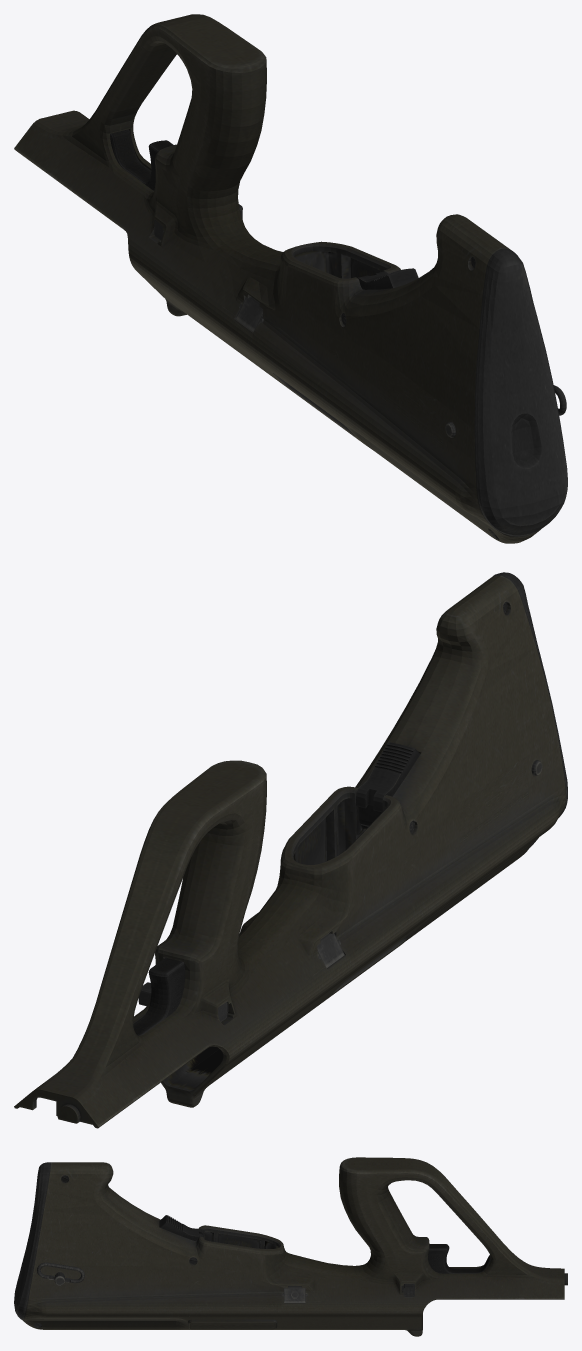
3 views of the same model, one above another, from view 1: azimuth 30°, elevation 25°; view 2: azimuth 150°, elevation 25°; view 3: azimuth 270°, elevation 25° (orthographic). The views are drawn at different scales.
Visible parts, largest first — view 1: TW_62e7c4fba689e8c9c50dfc38_PZ_Import; view 2: TW_62e7c4fba689e8c9c50dfc38_PZ_Import; view 3: TW_62e7c4fba689e8c9c50dfc38_PZ_Import.
Boxes of the visible parts, x1=… form: TW_62e7c4fba689e8c9c50dfc38_PZ_Import: x1=14, y1=14, x2=567, y2=543; TW_62e7c4fba689e8c9c50dfc38_PZ_Import: x1=14, y1=572, x2=567, y2=1128; TW_62e7c4fba689e8c9c50dfc38_PZ_Import: x1=14, y1=1157, x2=567, y2=1336.
Bounding box in the file's own units: 0.0383 × 0.2917 × 0.0993.
Materials: 1 (1 with a texture image).
